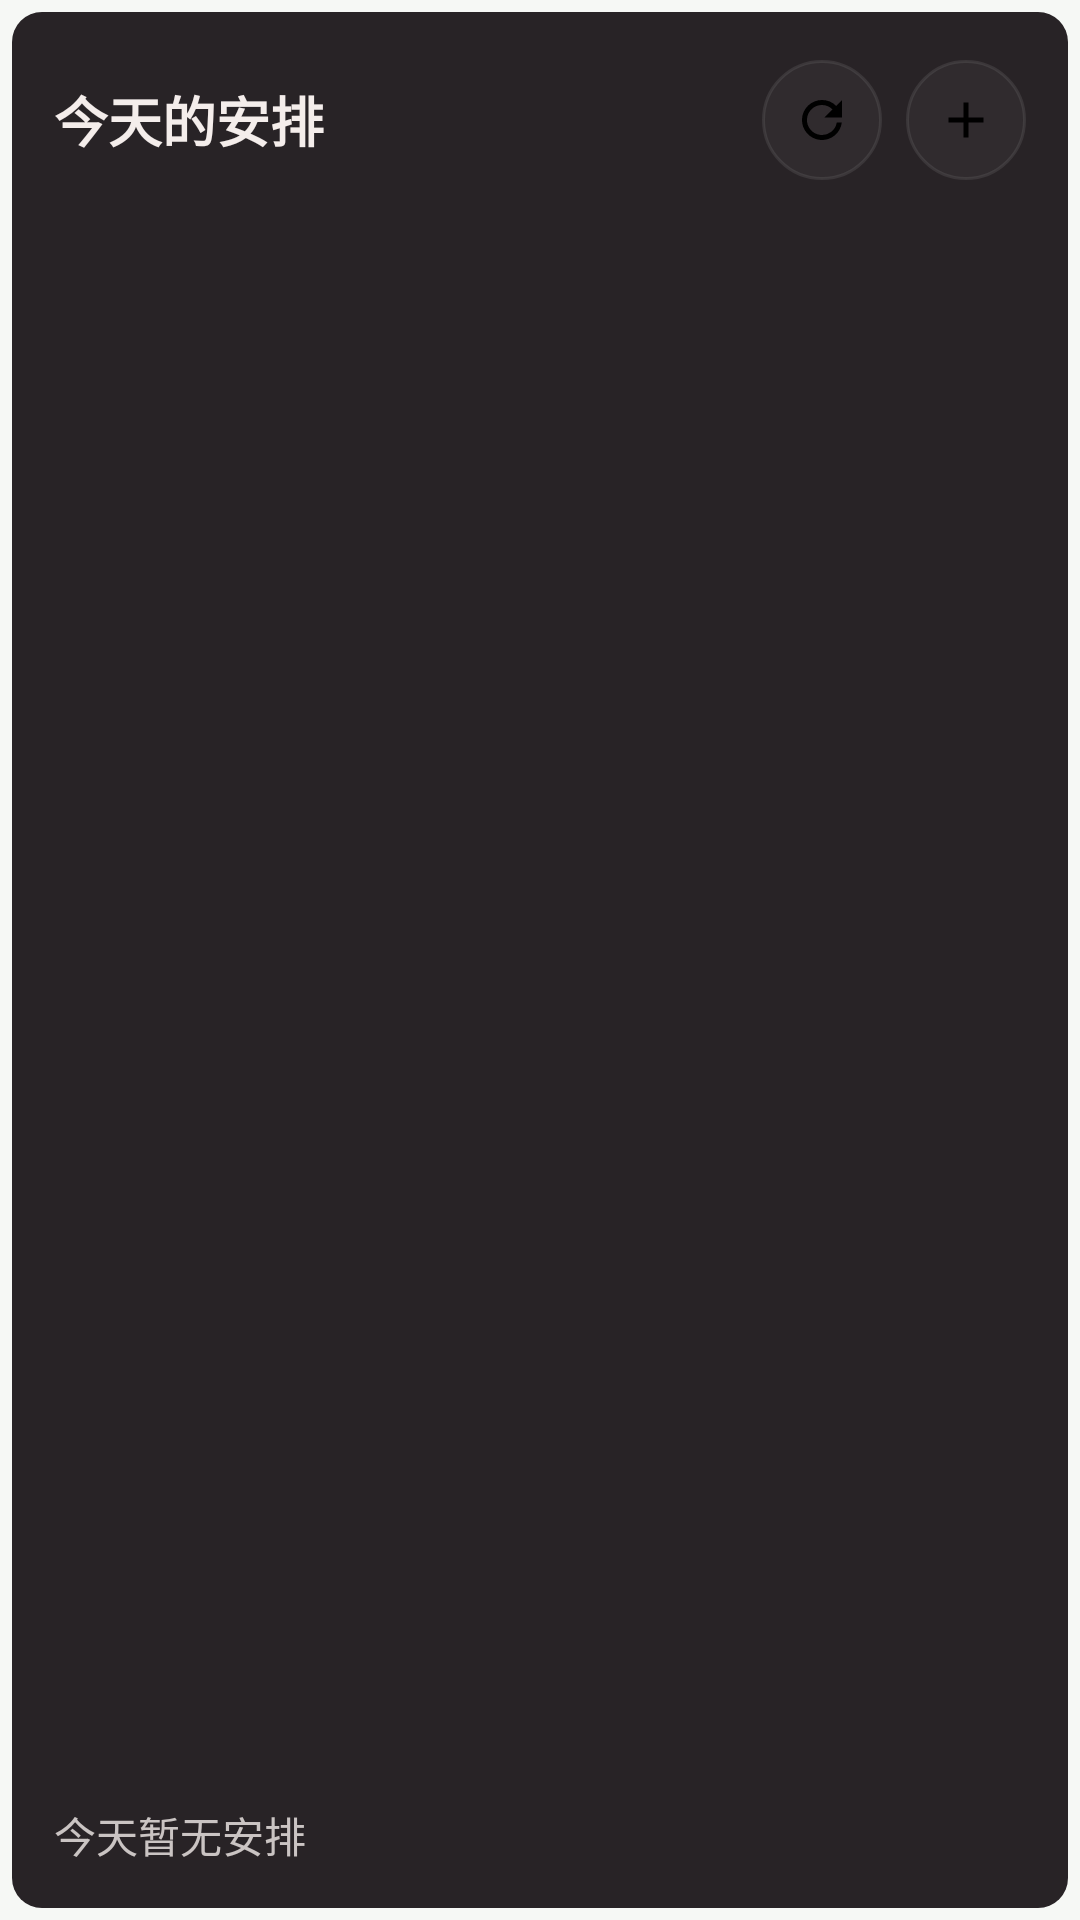

Where to tap for icons on this 1080×1920 app screen, as (x=x, y=y):
刷新日程: (x=822, y=120)
记录一件事: (x=966, y=120)
